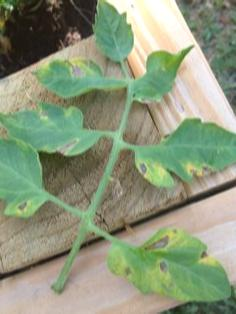Tomato Early blight leaf: (109, 227, 227, 302), (131, 122, 230, 188), (0, 101, 105, 157), (131, 36, 199, 108), (26, 59, 121, 98)
Tomato leaf: (91, 1, 138, 62)
